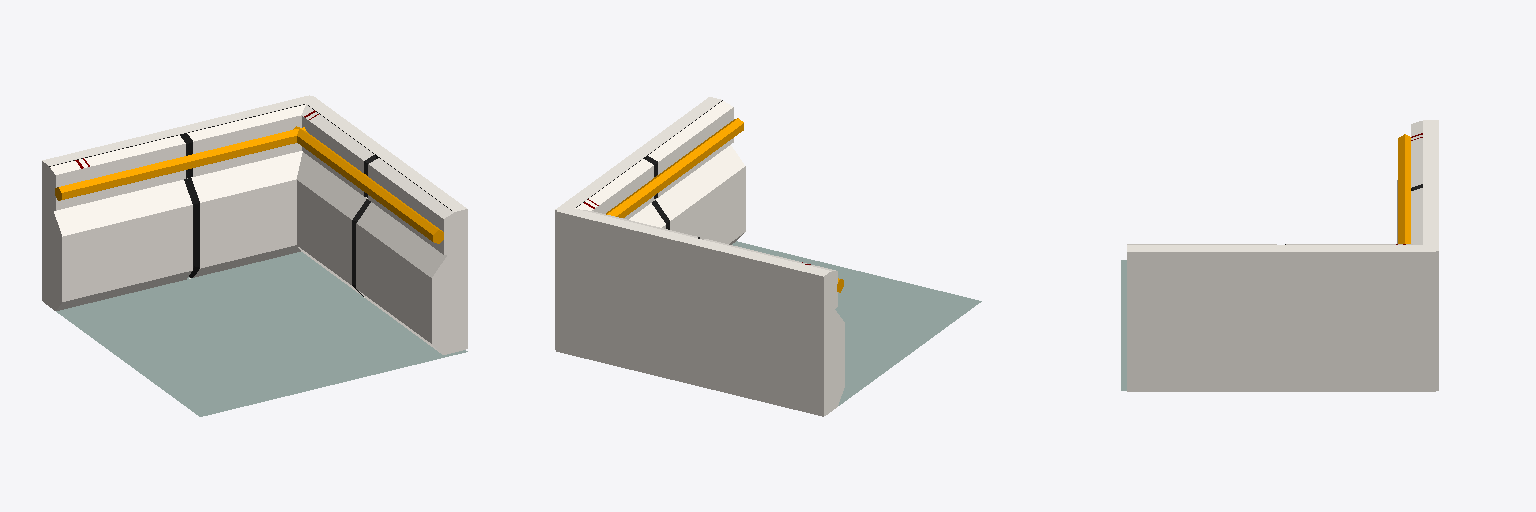
File: corner.obj
The picture shows the model from 3 angles: view 1: azimuth 30°, elevation 25°; view 2: azimuth 150°, elevation 25°; view 3: azimuth 270°, elevation 25°; orthographic projection.
Visible parts, largest first — view 1: pPlane1, group2 pCylinder14, group3 group1 pCylinder17, group2 pCylinder9, group3 group1 pCylinder16, pCube12 group3 group1, group2 pCylinder15, pCube1 group2, group3 group1 pCylinder18; view 2: pCube1 group2, pPlane1, group3 group1 pCylinder17, group3 group1 pCylinder16, group3 group1 pCylinder18, pCube12 group3 group1, group2 pCylinder14, group2 pCylinder9; view 3: pCube12 group3 group1, pCube1 group2, group2 pCylinder9, group2 pCylinder15, pPlane1.
Part boxes in pixels (left/top/right/bottom): pPlane1: left=56, top=252, right=467, bottom=416; group2 pCylinder14: left=44, top=151, right=302, bottom=310; group3 group1 pCylinder17: left=297, top=152, right=463, bottom=354; group2 pCylinder9: left=45, top=104, right=305, bottom=210; group3 group1 pCylinder16: left=302, top=104, right=464, bottom=256; pCube12 group3 group1: left=301, top=96, right=467, bottom=351; group2 pCylinder15: left=55, top=127, right=306, bottom=200; pCube1 group2: left=42, top=95, right=309, bottom=305; group3 group1 pCylinder18: left=293, top=126, right=443, bottom=243; pCube1 group2: left=556, top=207, right=830, bottom=416; pPlane1: left=732, top=241, right=981, bottom=405; group3 group1 pCylinder17: left=629, top=145, right=745, bottom=244; group3 group1 pCylinder16: left=575, top=101, right=733, bottom=219; group3 group1 pCylinder18: left=606, top=118, right=743, bottom=217; pCube12 group3 group1: left=555, top=97, right=722, bottom=349; group2 pCylinder14: left=826, top=304, right=844, bottom=414; group2 pCylinder9: left=579, top=209, right=837, bottom=321; pCube12 group3 group1: left=1127, top=245, right=1435, bottom=391; pCube1 group2: left=1423, top=120, right=1438, bottom=390; group2 pCylinder9: left=1411, top=121, right=1422, bottom=244; group2 pCylinder15: left=1398, top=134, right=1410, bottom=243; pPlane1: left=1121, top=260, right=1126, bottom=390.
Bounding box in the file's own units: 10.08 × 5.01 × 10.25.